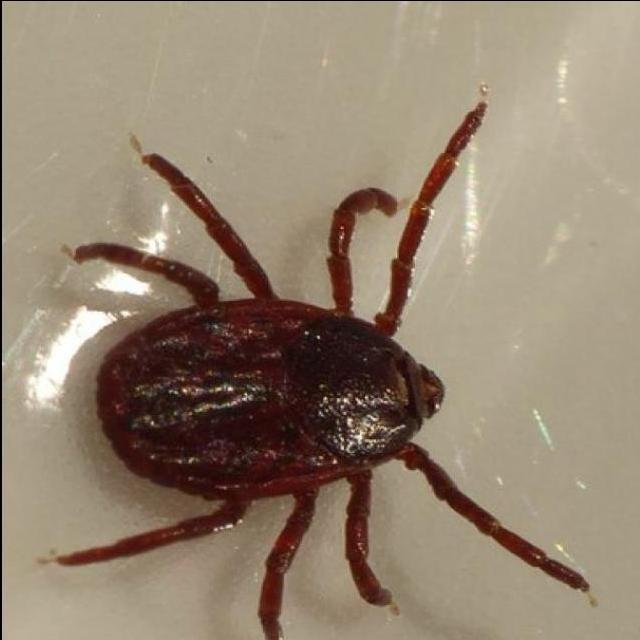Rhipicephalus Sanguineus-F: (47, 97, 586, 640)
